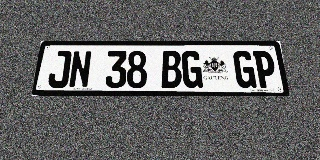3: (105, 51, 127, 88)
8: (126, 51, 147, 88)
B: (161, 51, 182, 88)
G: (233, 51, 257, 88), (181, 51, 203, 88)
J: (47, 51, 72, 88)
N: (68, 51, 92, 88)
P: (253, 51, 278, 88)
